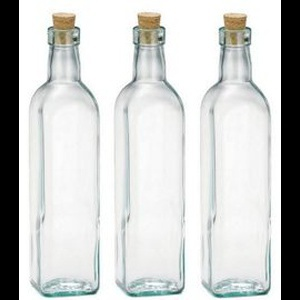emptybottle: (199, 12, 273, 300), (29, 14, 101, 297), (114, 12, 185, 297)
